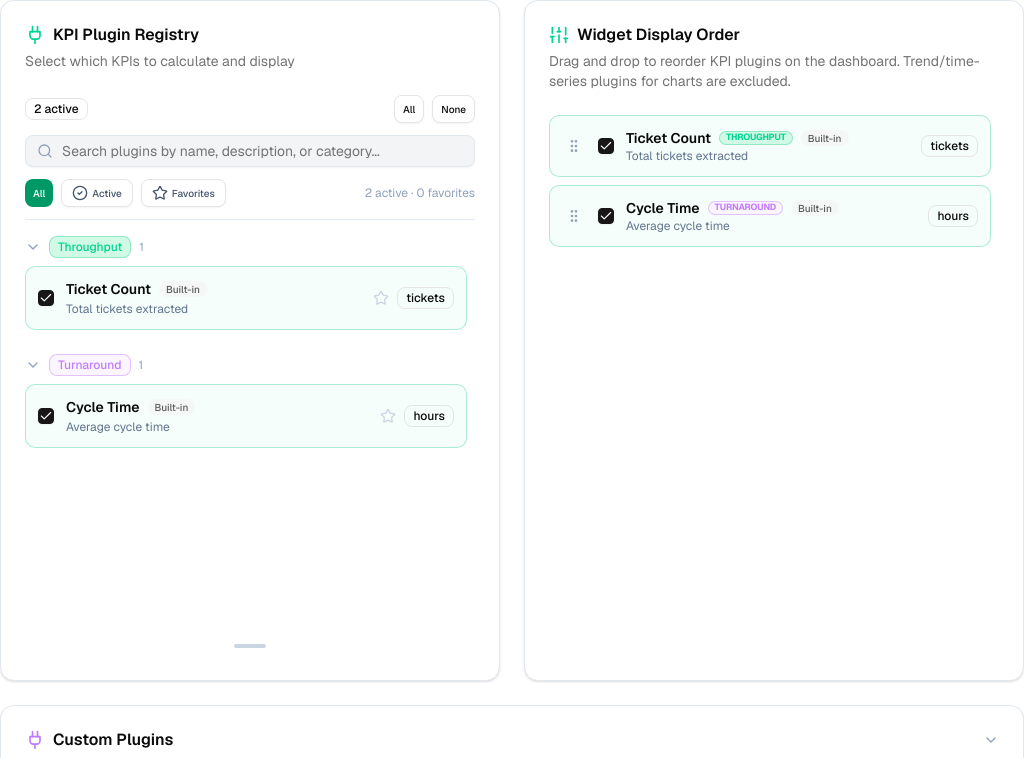
Test case: PluginsPanel › filters plugins by search query
Expected: the 2nd heading "Ticket Count" is shown, [66,279,151,299]
In the field with placeholder "Search plugins by name, description, or category...": (250, 151) [25,135,475,167], type "zzznomatch"
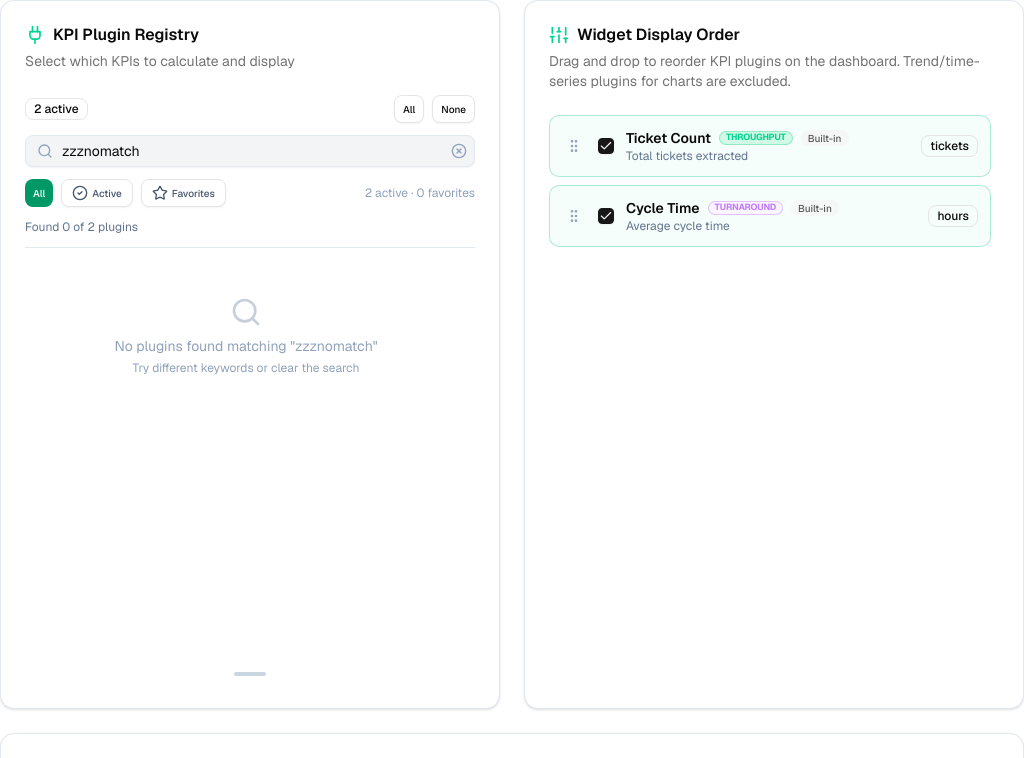
Now the text "No plugins found matching \"zzznomatch\"" is shown, box [114,337,378,355]
